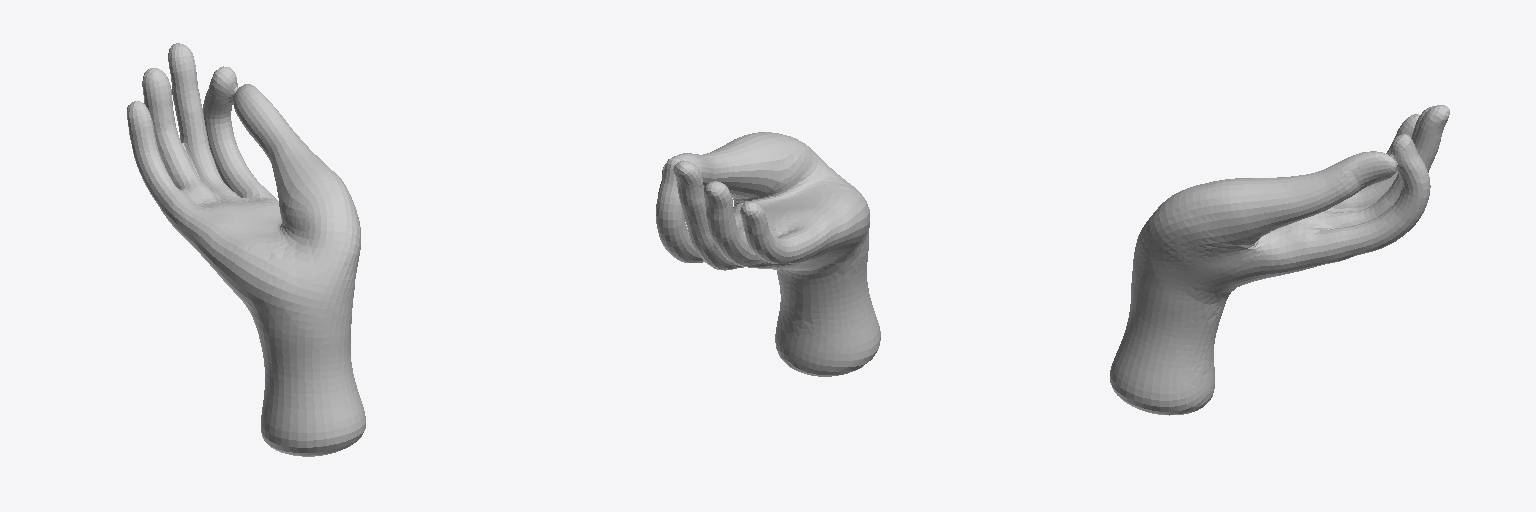
File: hand.obj
3 views of the same model, side by side, from view 1: azimuth 30°, elevation 25°; view 2: azimuth 150°, elevation 25°; view 3: azimuth 270°, elevation 25° (orthographic).
Parts seen in each view (by area): view 1: Hand; view 2: Hand; view 3: Hand.
Boxes of the visible parts, box(x1,y1,x2,y2) form: Hand: box(127, 43, 365, 456); Hand: box(656, 132, 880, 376); Hand: box(1110, 105, 1449, 415).
Size of the model in its own units: 0.3006 by 0.6773 by 0.687.